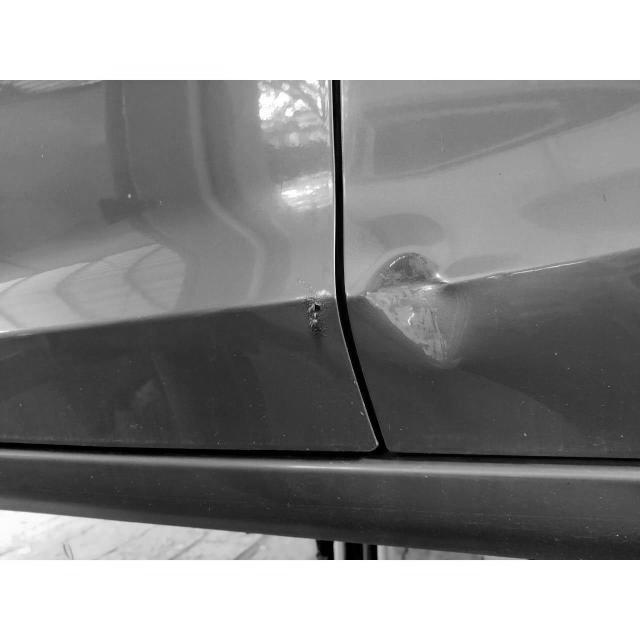doorouter-dent: (0, 81, 344, 502), (343, 84, 640, 501)
